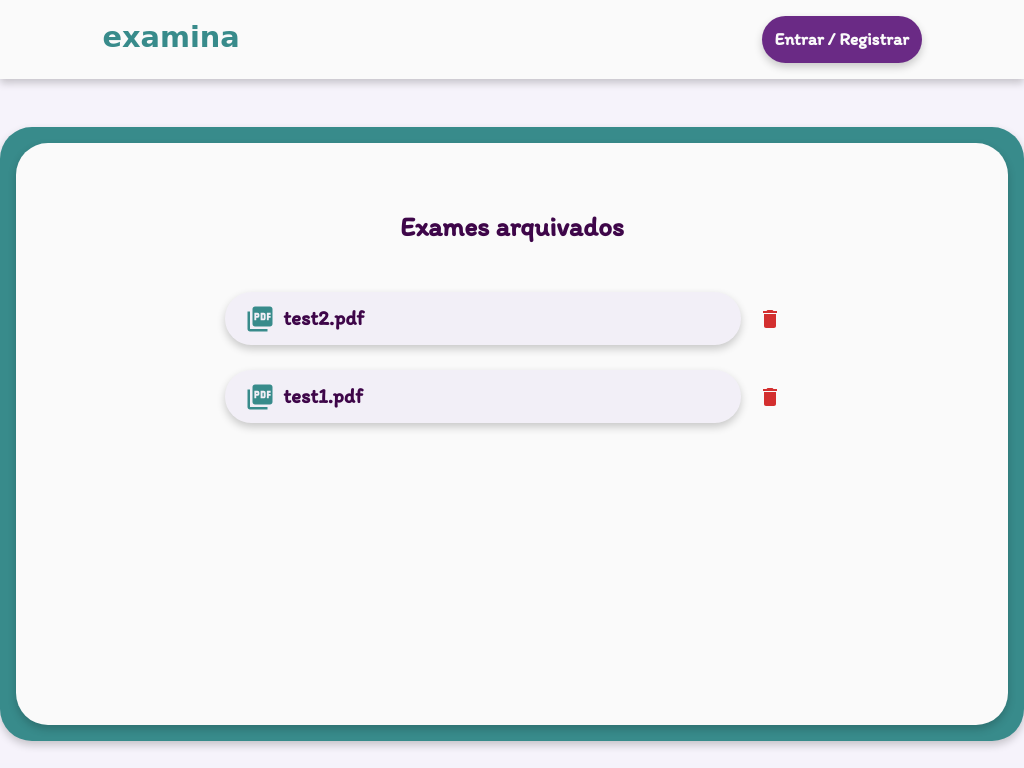
Test: Uploads Page Tests › Should handle PDF deletion error
Click the 3rd button at (770, 319), box [741, 299, 798, 339]
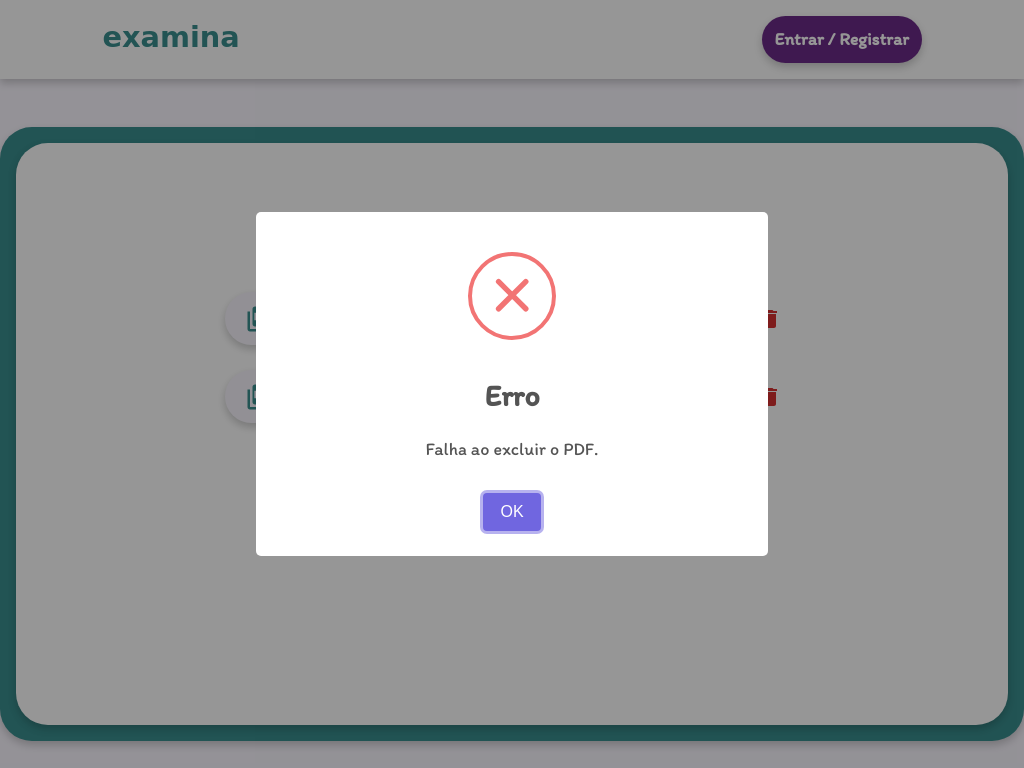
Check: the text with class "swal2-html-container" reads "Falha ao excluir o PDF.", box [426, 438, 599, 460]
